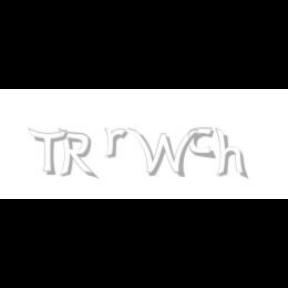R: (57, 128, 95, 180)
T: (28, 128, 68, 176)
W: (127, 128, 199, 178)
c: (189, 128, 218, 160)
h: (216, 128, 250, 180)
r: (104, 128, 130, 158)
